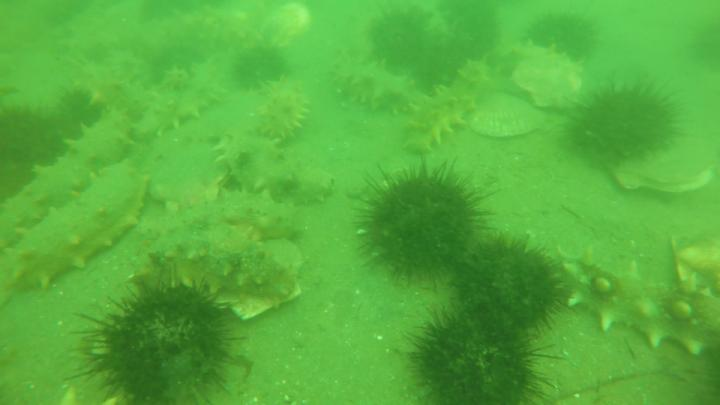echinus: (65, 277, 251, 405), (342, 156, 499, 285), (404, 291, 562, 405), (454, 226, 568, 335), (559, 78, 691, 169), (1, 106, 64, 181), (362, 5, 434, 70), (409, 32, 471, 94), (525, 9, 602, 58), (442, 5, 504, 58), (50, 87, 102, 145), (232, 46, 289, 94), (690, 22, 720, 75)
holothurian: (550, 246, 720, 362), (3, 161, 147, 293), (1, 109, 132, 248), (132, 228, 303, 308), (216, 130, 338, 211), (396, 60, 496, 151), (162, 186, 304, 243), (330, 47, 419, 114), (175, 44, 235, 123), (250, 77, 314, 144), (135, 69, 192, 141), (487, 42, 566, 72)
scallop: (605, 134, 720, 199), (150, 140, 241, 206), (511, 55, 589, 112), (466, 91, 549, 141), (666, 224, 720, 300), (208, 287, 311, 324), (259, 1, 313, 50)
